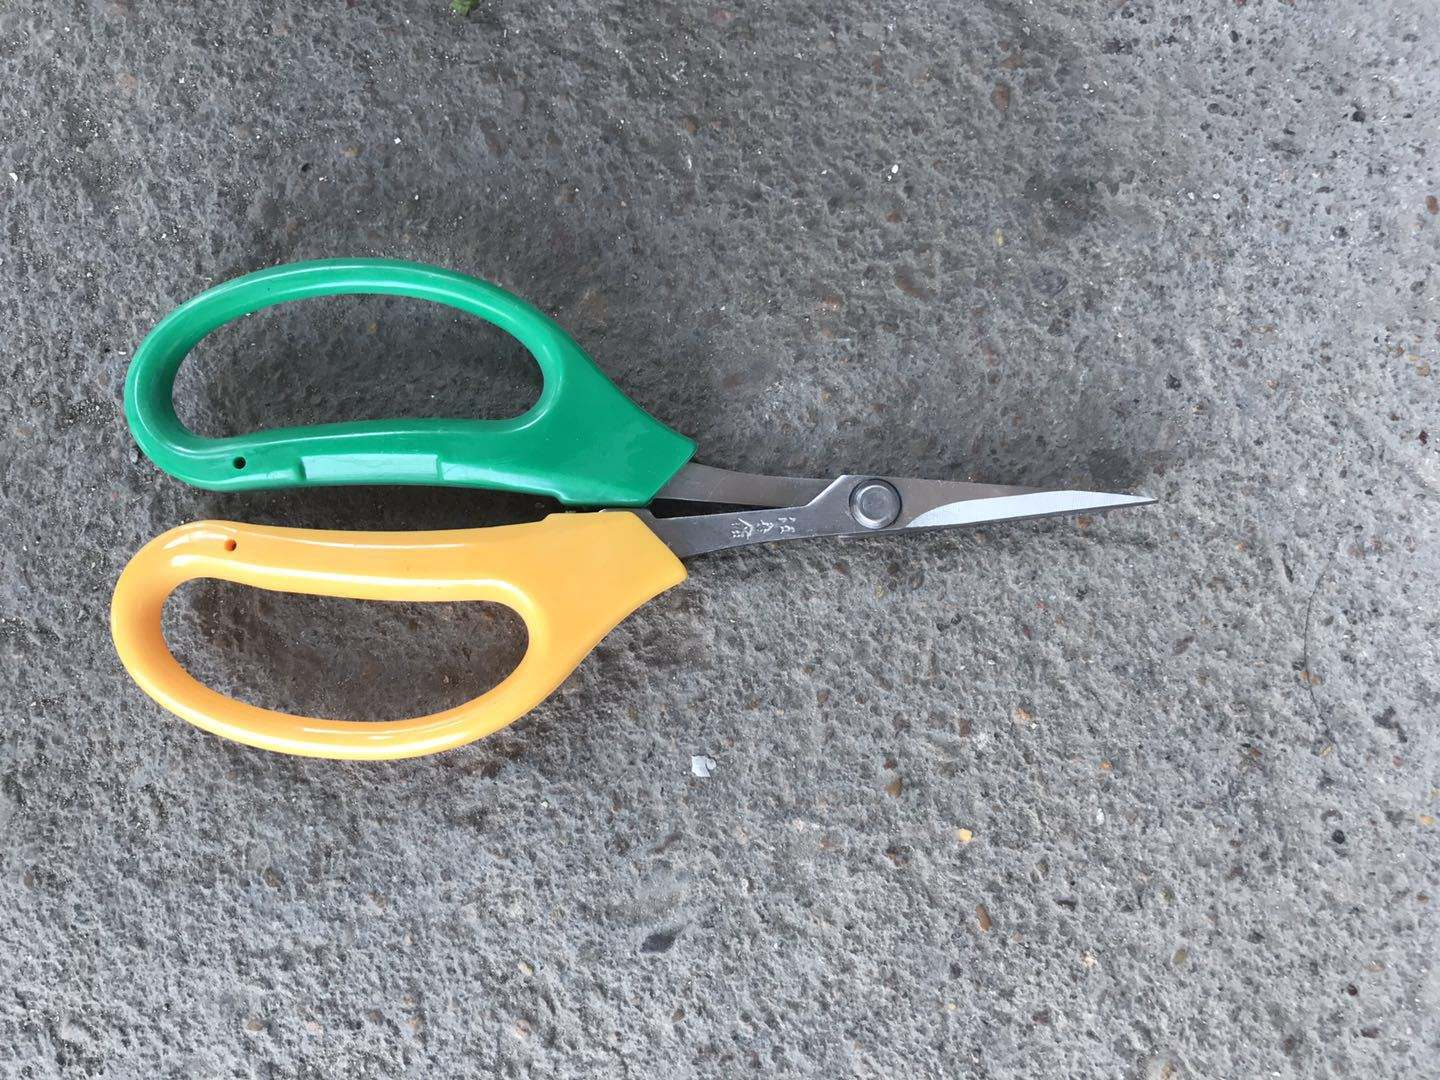scissor: (108, 257, 1163, 768)
